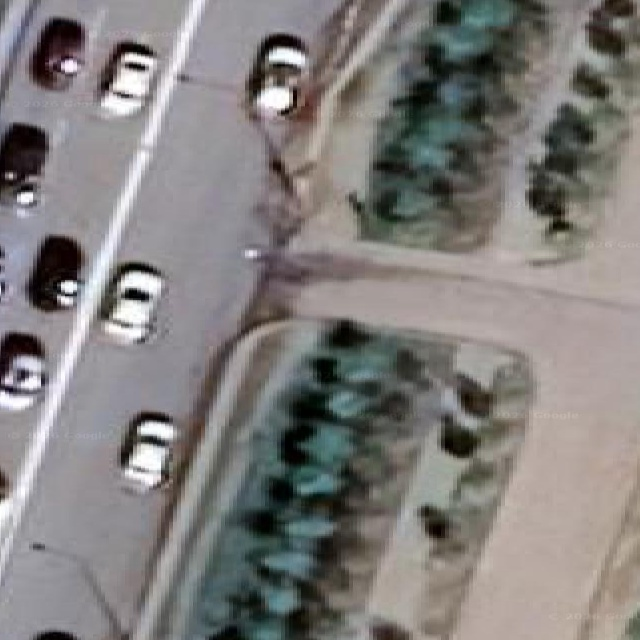car: (440, 344, 507, 455), (444, 344, 506, 430), (101, 263, 163, 342), (248, 33, 307, 114), (120, 413, 175, 491), (99, 43, 156, 116), (0, 123, 48, 206), (27, 236, 80, 310), (30, 18, 83, 88), (0, 332, 44, 407), (443, 373, 491, 431), (363, 615, 411, 639), (0, 472, 12, 540), (32, 631, 76, 639), (0, 246, 5, 300), (0, 272, 5, 300)
